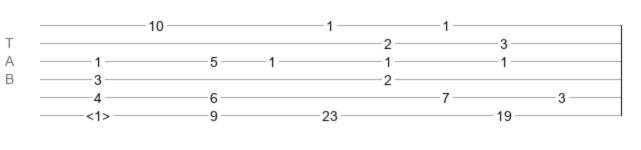1: (94, 54, 102, 64), (268, 54, 276, 64), (326, 18, 334, 28), (384, 54, 392, 64), (442, 18, 450, 28), (500, 54, 508, 64)
10: (148, 18, 164, 28)
19: (496, 108, 512, 118)
2: (384, 36, 392, 46), (384, 72, 392, 82)
23: (322, 108, 338, 118)
3: (94, 72, 102, 82), (500, 36, 508, 46), (558, 90, 566, 100)
4: (94, 90, 102, 100)
5: (210, 54, 218, 64)
6: (210, 90, 218, 100)
7: (442, 90, 450, 100)
9: (210, 108, 218, 118)
harmonic: (86, 108, 110, 118)
